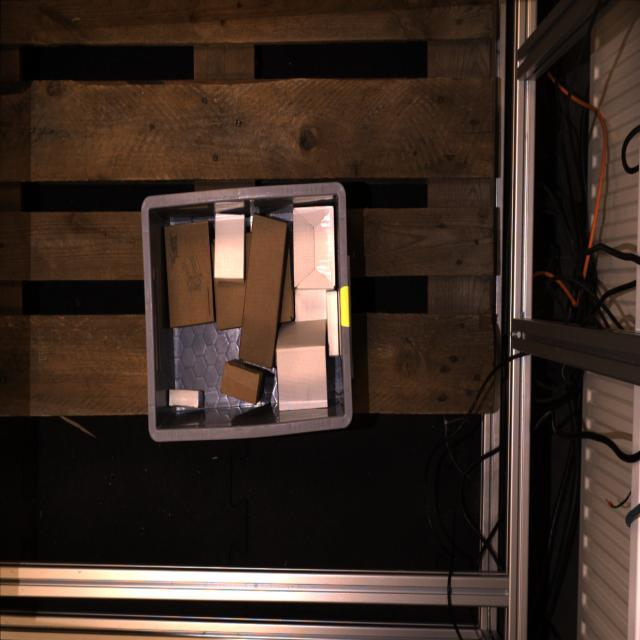CardboardBox: (239, 214, 287, 367), (164, 221, 214, 326), (276, 321, 327, 410), (210, 232, 251, 330), (293, 207, 335, 289), (214, 213, 245, 281), (214, 213, 244, 281), (221, 359, 266, 404), (295, 290, 326, 321), (280, 259, 294, 322), (326, 291, 339, 356), (167, 389, 204, 408)
